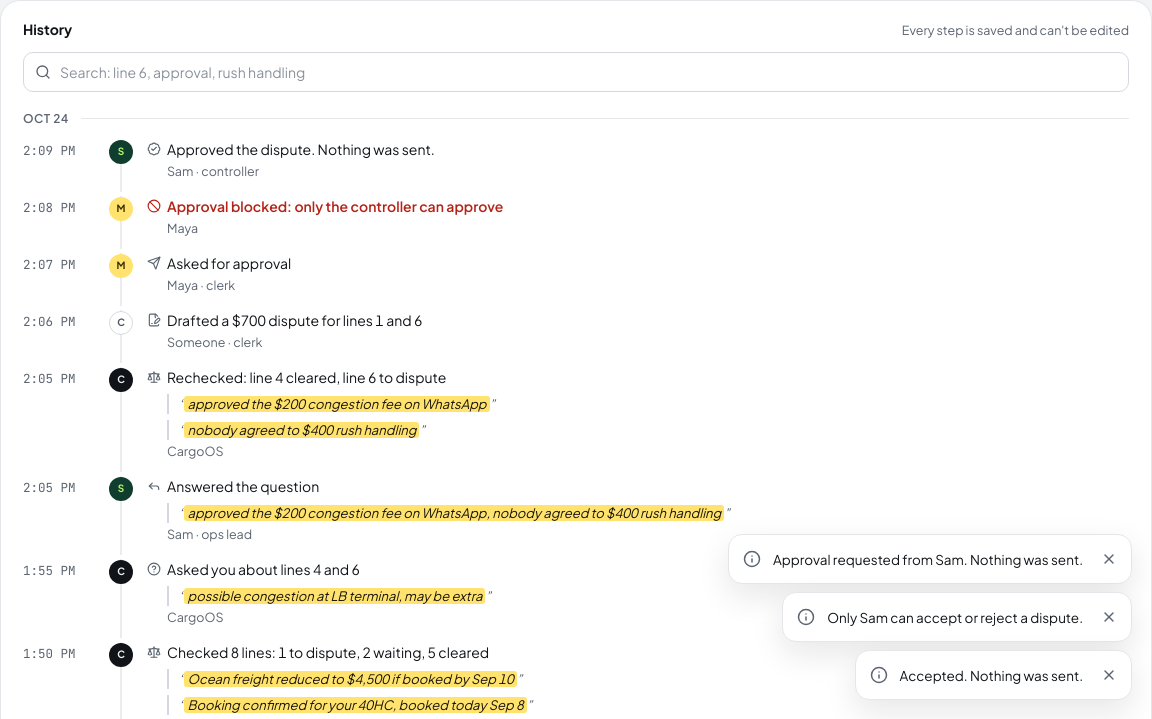
Test: HistoryTab › when nothing matches, says so and Clear search brings every step back
The width and height of the screenshot is (1152, 719).
Type "zzz-not-there" into the search field named "Search history".
click(576, 72); type("zzz-not-there")  # box 23,52 -> 1129,92
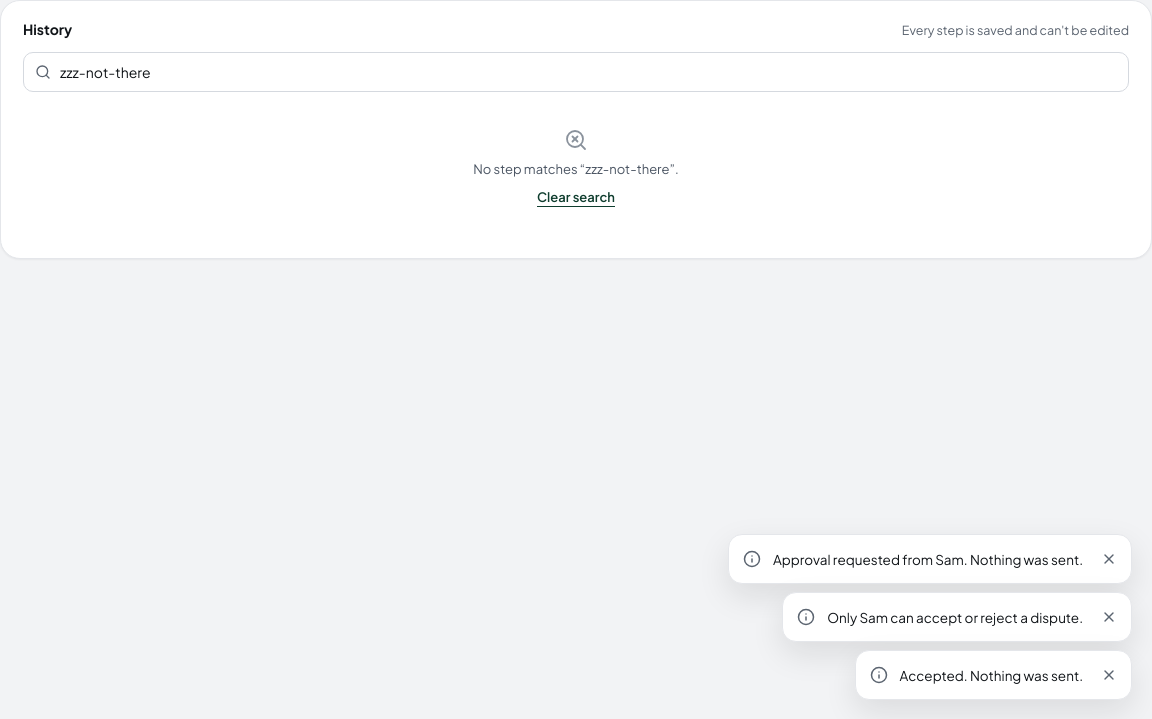
Expected: the text "No step matches “zzz-not-there”." is shown, 473,160 -> 679,179
Click the button "Clear search".
click(576, 198)  # box 537,187 -> 615,208
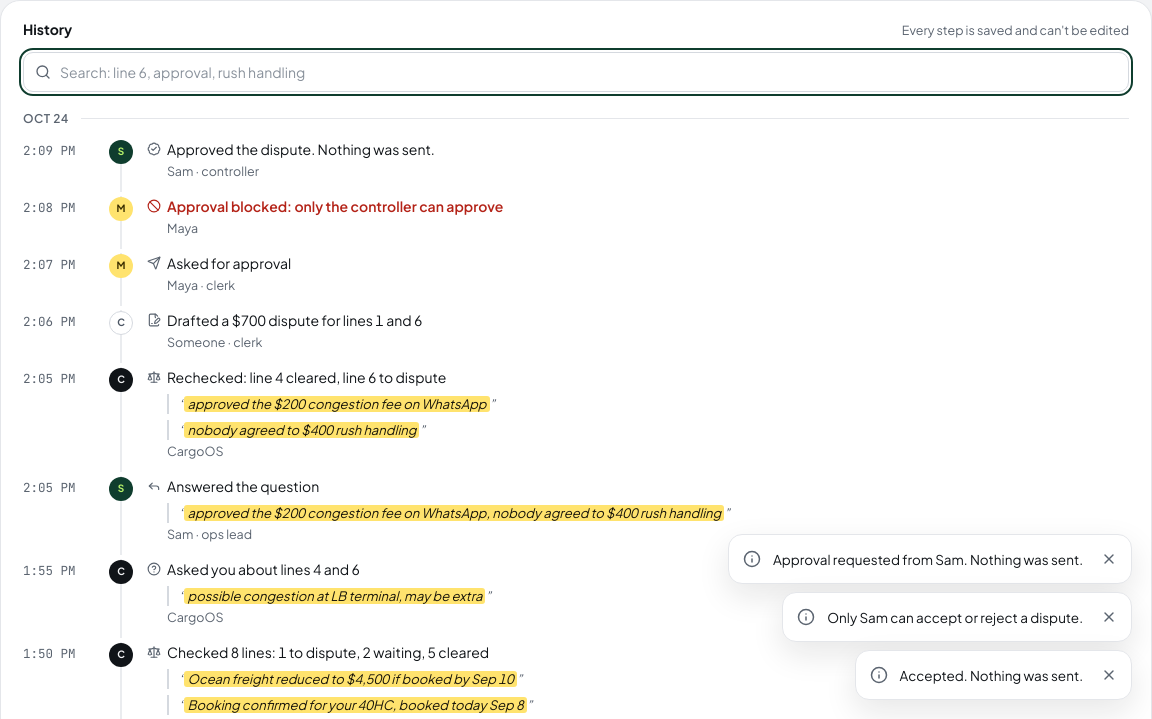
Expected: the search field named "Search history" is empty, 23,52 -> 1129,92
Expected: the number of list items is 16
Expected: the text "No step matches" is gone
